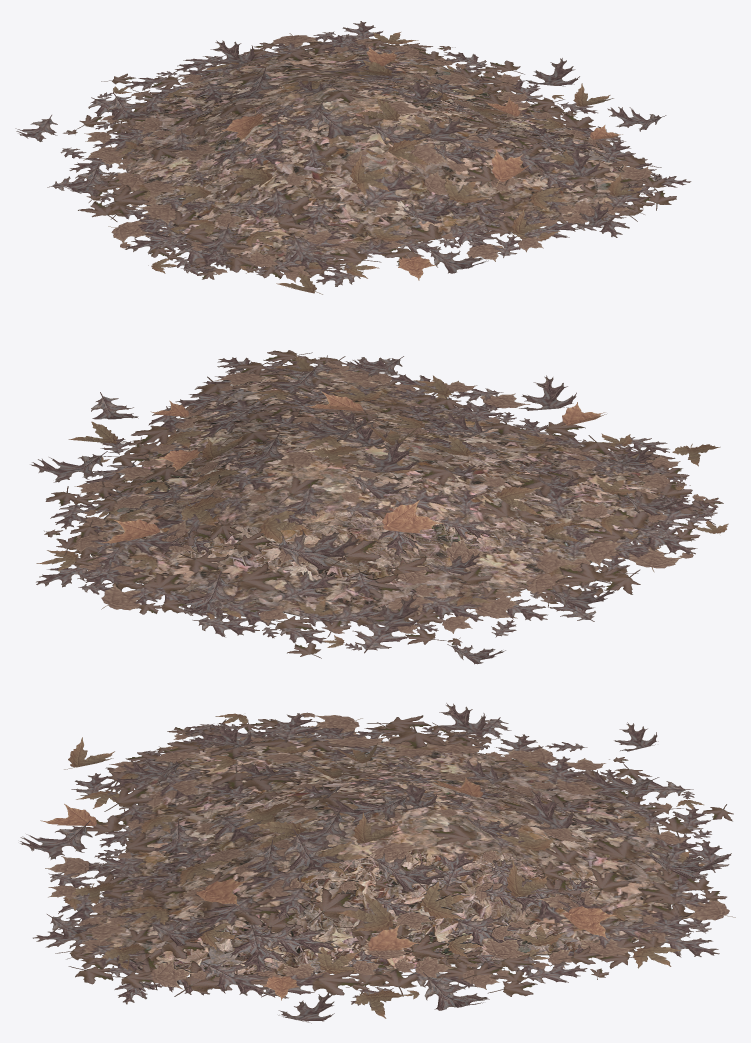
Rendered from SM_Cave_Leaf_Pile01.70b656e4.glb.
The picture shows the model from 3 angles, top to bottom: view 1: azimuth 30°, elevation 25°; view 2: azimuth 150°, elevation 25°; view 3: azimuth 270°, elevation 25°; orthographic projection. The views are drawn at different scales.
Parts seen in each view (by area): view 1: SM_Cave_Leaf_Pile01; view 2: SM_Cave_Leaf_Pile01; view 3: SM_Cave_Leaf_Pile01.
Part boxes in pixels (x1,y1,x2,y2): SM_Cave_Leaf_Pile01: [15, 21, 691, 294]; SM_Cave_Leaf_Pile01: [30, 350, 728, 664]; SM_Cave_Leaf_Pile01: [20, 703, 735, 1023].
Size of the model in its own units: 3.09 by 0.2869 by 2.94.
Materials: 1 (1 with a texture image).
